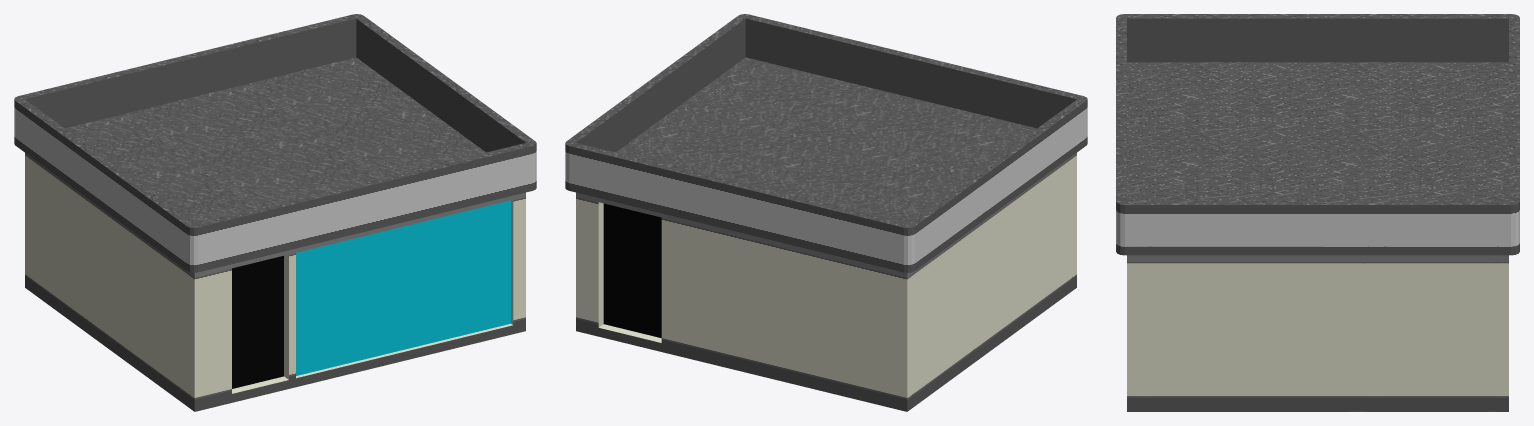
Rendered from FuelStation_LOD_3.fbx.
3 renders of one model, left to right at view 1: azimuth 30°, elevation 25°; view 2: azimuth 150°, elevation 25°; view 3: azimuth 270°, elevation 25°, orthographic. The views are drawn at different scales.
Parts seen in each view (by area): view 1: Fuel_Station_Building_Low; view 2: Fuel_Station_Building_Low; view 3: Fuel_Station_Building_Low.
Part boxes in pixels (<box>): Fuel_Station_Building_Low: <box>14,14,536,411</box>; Fuel_Station_Building_Low: <box>565,14,1087,411</box>; Fuel_Station_Building_Low: <box>1116,14,1519,411</box>.
Bounding box in the file's own units: 1220 × 630 × 1090.
6 materials, 4 textured.
